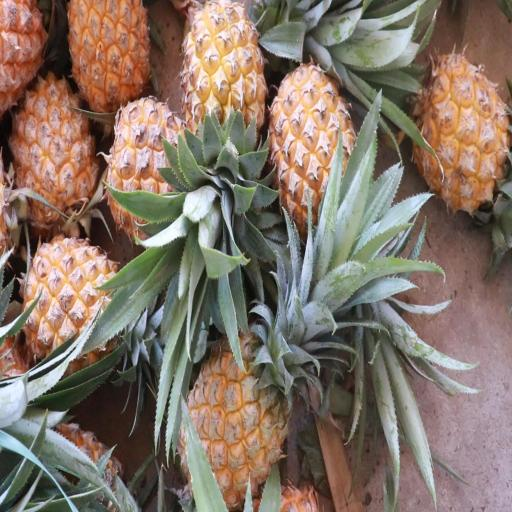Pineapple - v8 v1: (168, 317, 318, 510), (408, 45, 512, 227), (263, 54, 364, 241), (178, 0, 271, 197), (20, 227, 135, 384), (105, 89, 208, 259), (4, 66, 101, 242), (63, 0, 153, 130)
